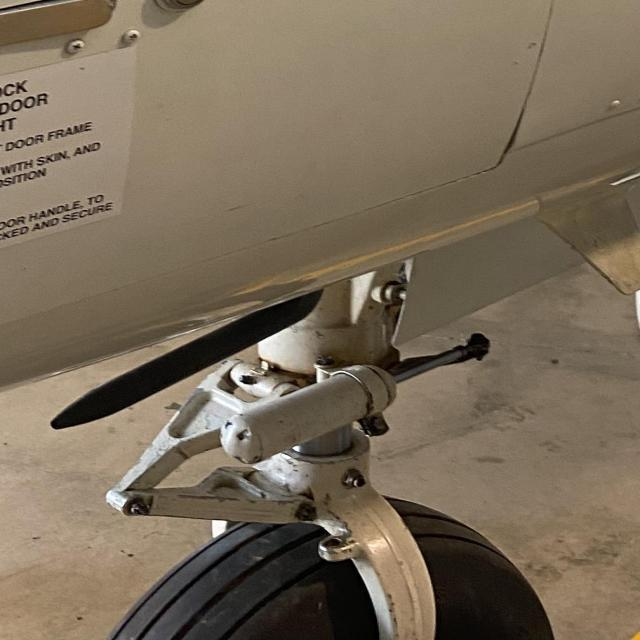Paint-off: (521, 36, 542, 52)
